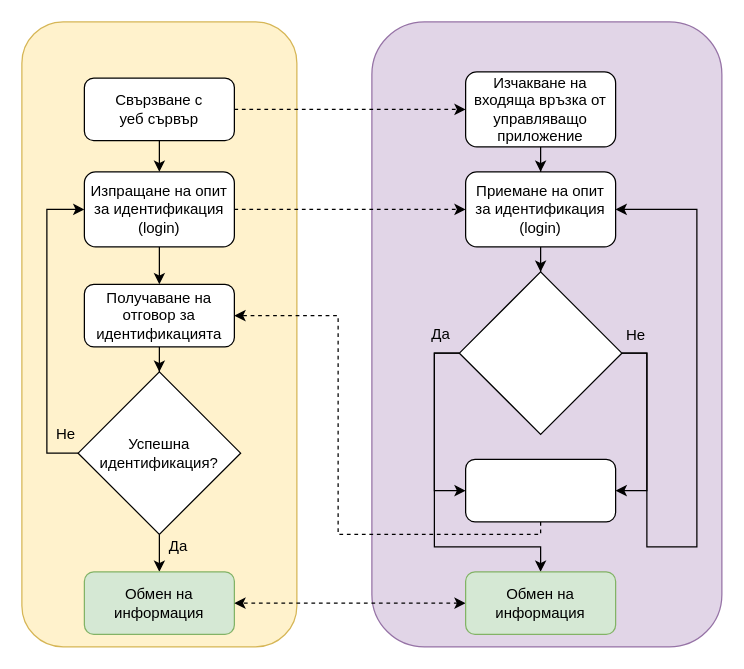
This 744x669 diagram has some shape labels left out. The box of each missing label's shape, as (x1, y1, x2, y2) in pixels:
Изпращане на отговор за идентификацията: (464, 458, 616, 522)
Правилни име и парола?: (458, 271, 622, 434)
Уеб сървър: (371, 21, 722, 647)
Управляващо приложение: (21, 21, 297, 647)
